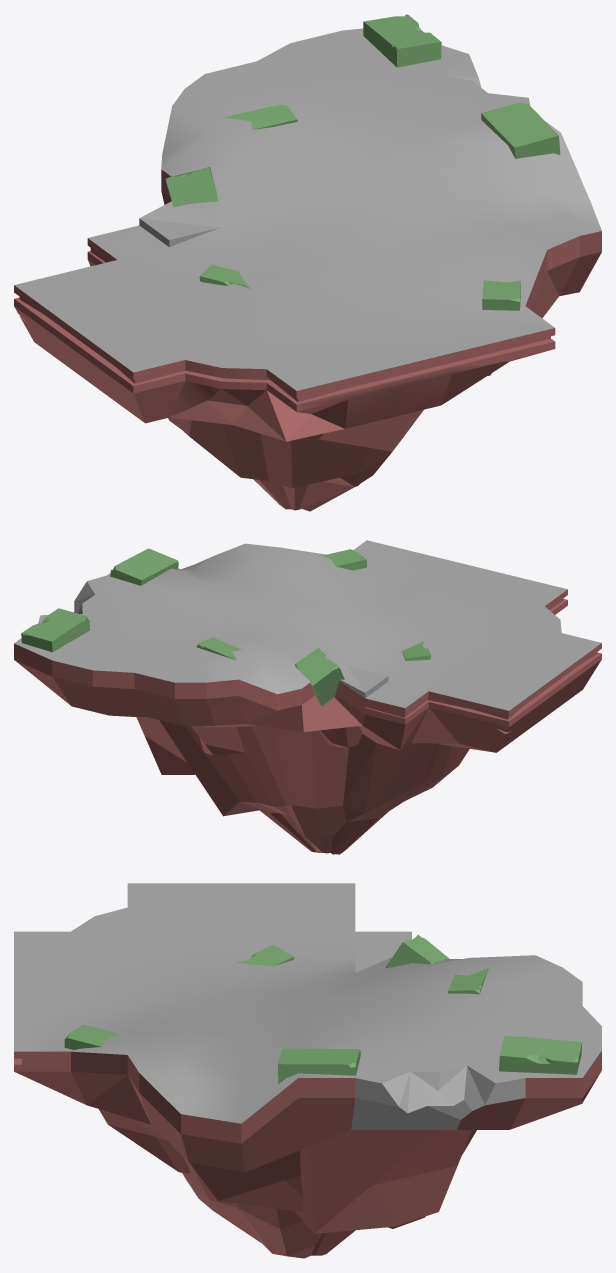
File: SM_Plateform_D.fbx
3 renders of one model, top to bottom at view 1: azimuth 30°, elevation 25°; view 2: azimuth 150°, elevation 25°; view 3: azimuth 270°, elevation 25°, orthographic. The views are drawn at different scales.
Parts seen in each view (by area): view 1: Plateforme_A; view 2: Plateforme_A; view 3: Plateforme_A.
Boxes of the visible parts, bbox=[...] form: Plateforme_A: bbox=[14, 14, 601, 511]; Plateforme_A: bbox=[14, 540, 601, 854]; Plateforme_A: bbox=[14, 883, 601, 1258].
Size of what is drawn, in the model's own units: 930 by 541 by 927.
